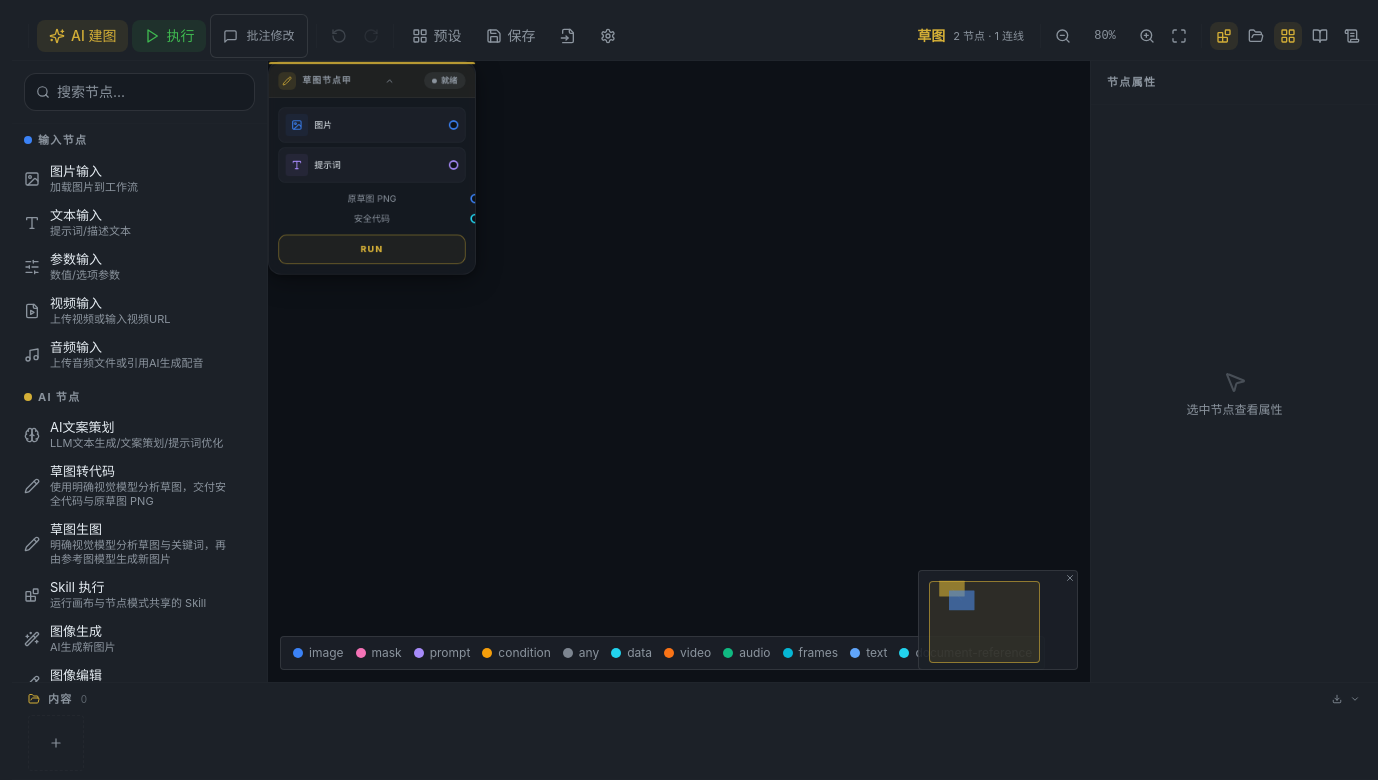
Test: Task5 original node editor sketch integration › blocks workflow submission while a canvas image transfer is pending instead of discarding the pending guard
Click the button with aria-label "执行工作流" at (170, 36), box [132, 20, 206, 52]
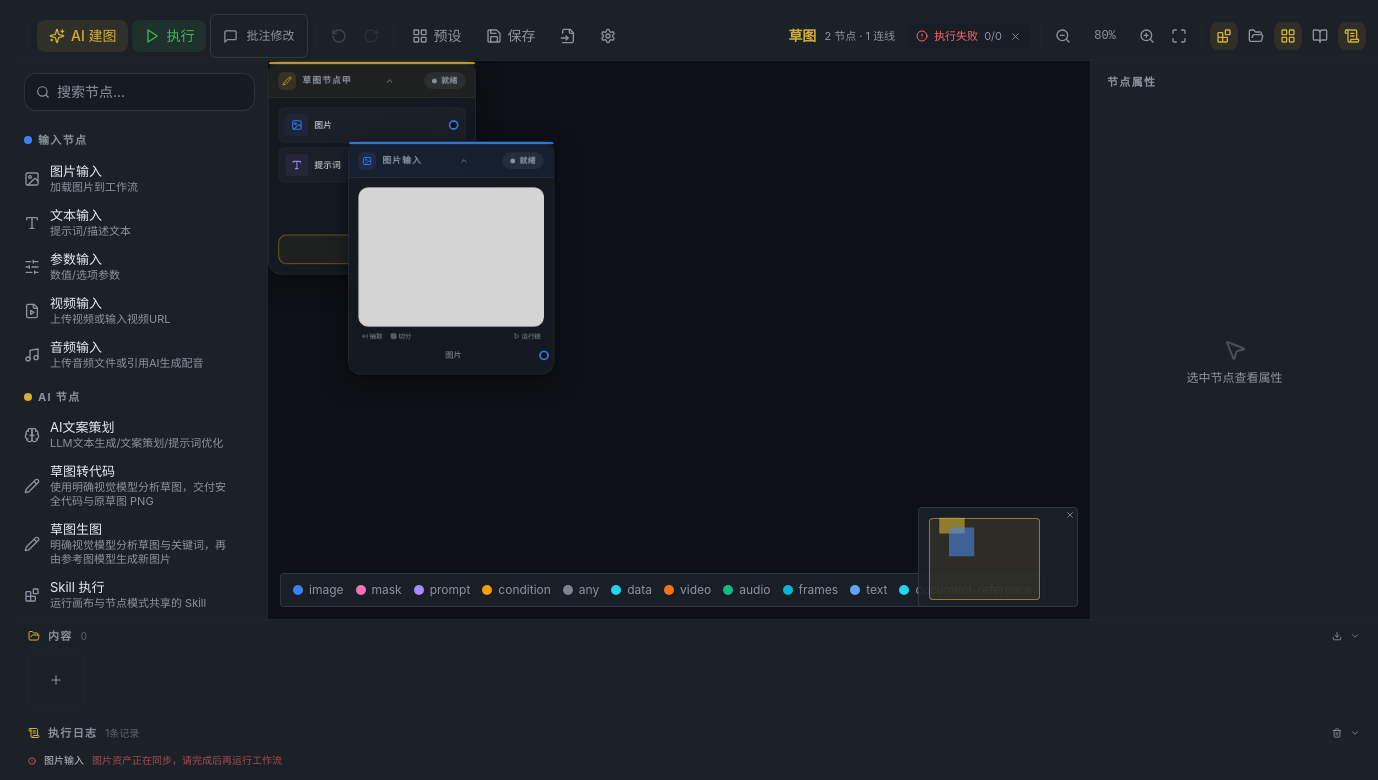
Now the text "图片资产正在同步，请完成后再运行工作流" is shown, box [92, 754, 282, 766]
